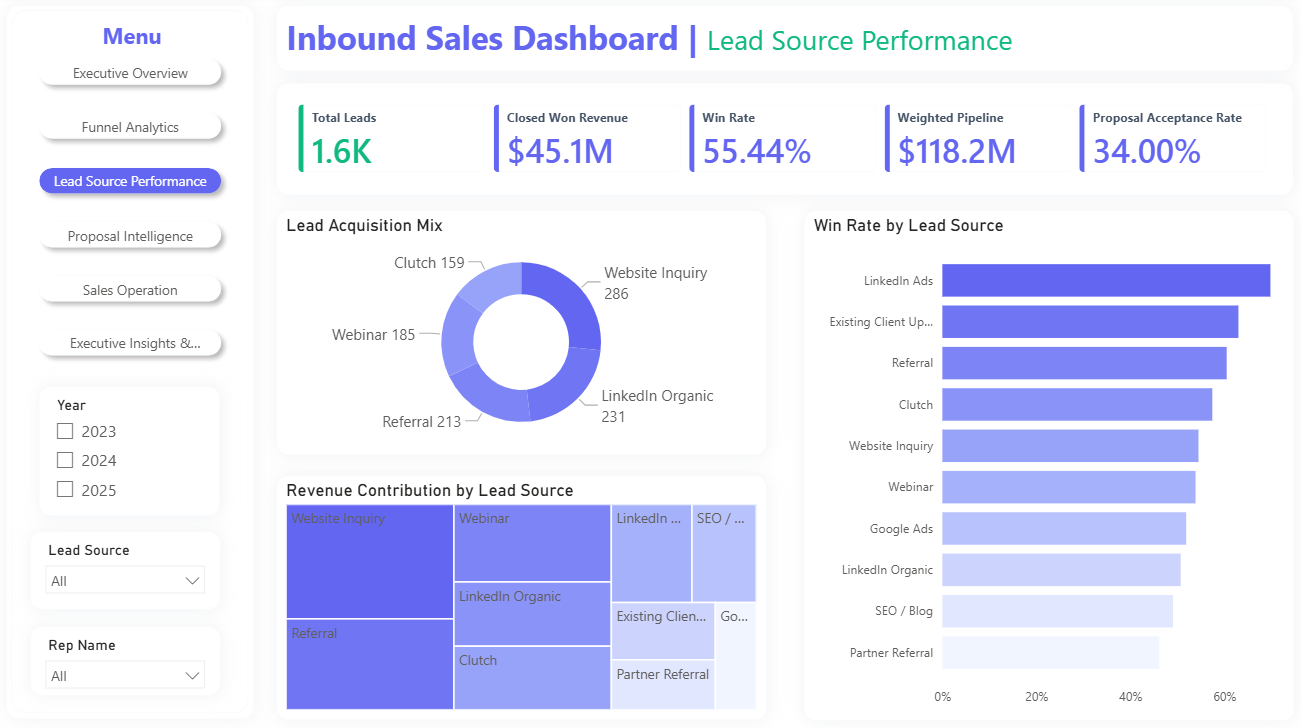

This screenshot's page, from the dashboard's own definition file:
{"tool":"powerbi","page":{"name":"Lead Source Performance","canvas":[1280,720],"ordinal":2},"visuals":[{"type":"treemap","title":"Revenue Contribution by Lead Source","fields":{"Group":["gold dim_lead_source.lead_source"],"Values":["measure_table.Closed Won Revenue"]},"box":[275,470,480,240],"z":0},{"type":"barChart","title":"Win Rate by Lead Source","fields":{"Category":["gold dim_lead_source.lead_source"],"Y":["measure_table.Win Rate by Source"]},"box":[791.4,210,480,500],"z":1000},{"type":"donutChart","title":"Lead Acquisition Mix","fields":{"Category":["gold dim_lead_source.lead_source"],"Y":["measure_table.Total Leads"]},"box":[275,210,480,240],"z":2000},{"type":"cardVisual","fields":{"Data":["measure_table.Total Leads","measure_table.Closed Won Revenue","measure_table.Win Rate by Source","measure_table.Weighted Pipeline","measure_table.Proposal Acceptance by Source"]},"box":[275,85,995.5,110],"z":3000},{"type":"shape","box":[11.5,10.1,242.4,698.3],"z":4000},{"type":"pageNavigator","box":[34.6,53.4,196.2,311.6],"z":5000},{"type":"slicer","fields":{"Values":["gold dim_date.date_value.Variation.Date Hierarchy.Year"]},"box":[43.3,382.3,177.5,127],"z":6000},{"type":"slicer","fields":{"Values":["gold dim_lead_source.lead_source"]},"box":[34.6,525.2,186.1,76.5],"z":7000},{"type":"slicer","fields":{"Values":["gold dim_representative.representative_name"]},"box":[34.6,617.5,186.1,67.8],"z":8000},{"type":"textbox","box":[100,20,90,45],"z":9000},{"type":"textbox","box":[275,10,995,65],"z":10000}]}

Visuals, with their boxes in screenshot pixels (x1, y1, x2, y2), scaled from the page's 1280x720 canvas onto the 1301x728 screenshot:
"Revenue Contribution by Lead Source" treemap: box(280, 475, 767, 718)
"Win Rate by Lead Source" barChart: box(804, 212, 1292, 718)
"Lead Acquisition Mix" donutChart: box(280, 212, 767, 455)
cardVisual - measure_table.Total Leads x measure_table.Closed Won Revenue: box(280, 86, 1291, 197)
shape: box(12, 10, 258, 716)
pageNavigator: box(35, 54, 235, 369)
slicer - gold dim_date.date_value.Variation.Date Hierarchy.Year: box(44, 387, 224, 515)
slicer - gold dim_lead_source.lead_source: box(35, 531, 224, 608)
slicer - gold dim_representative.representative_name: box(35, 624, 224, 693)
textbox: box(102, 20, 193, 66)
textbox: box(280, 10, 1291, 76)
